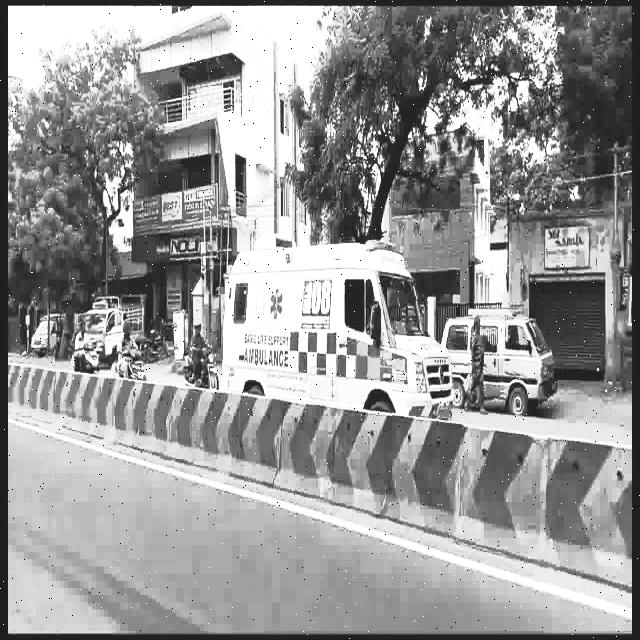Ambulance: (218, 230, 450, 425)
